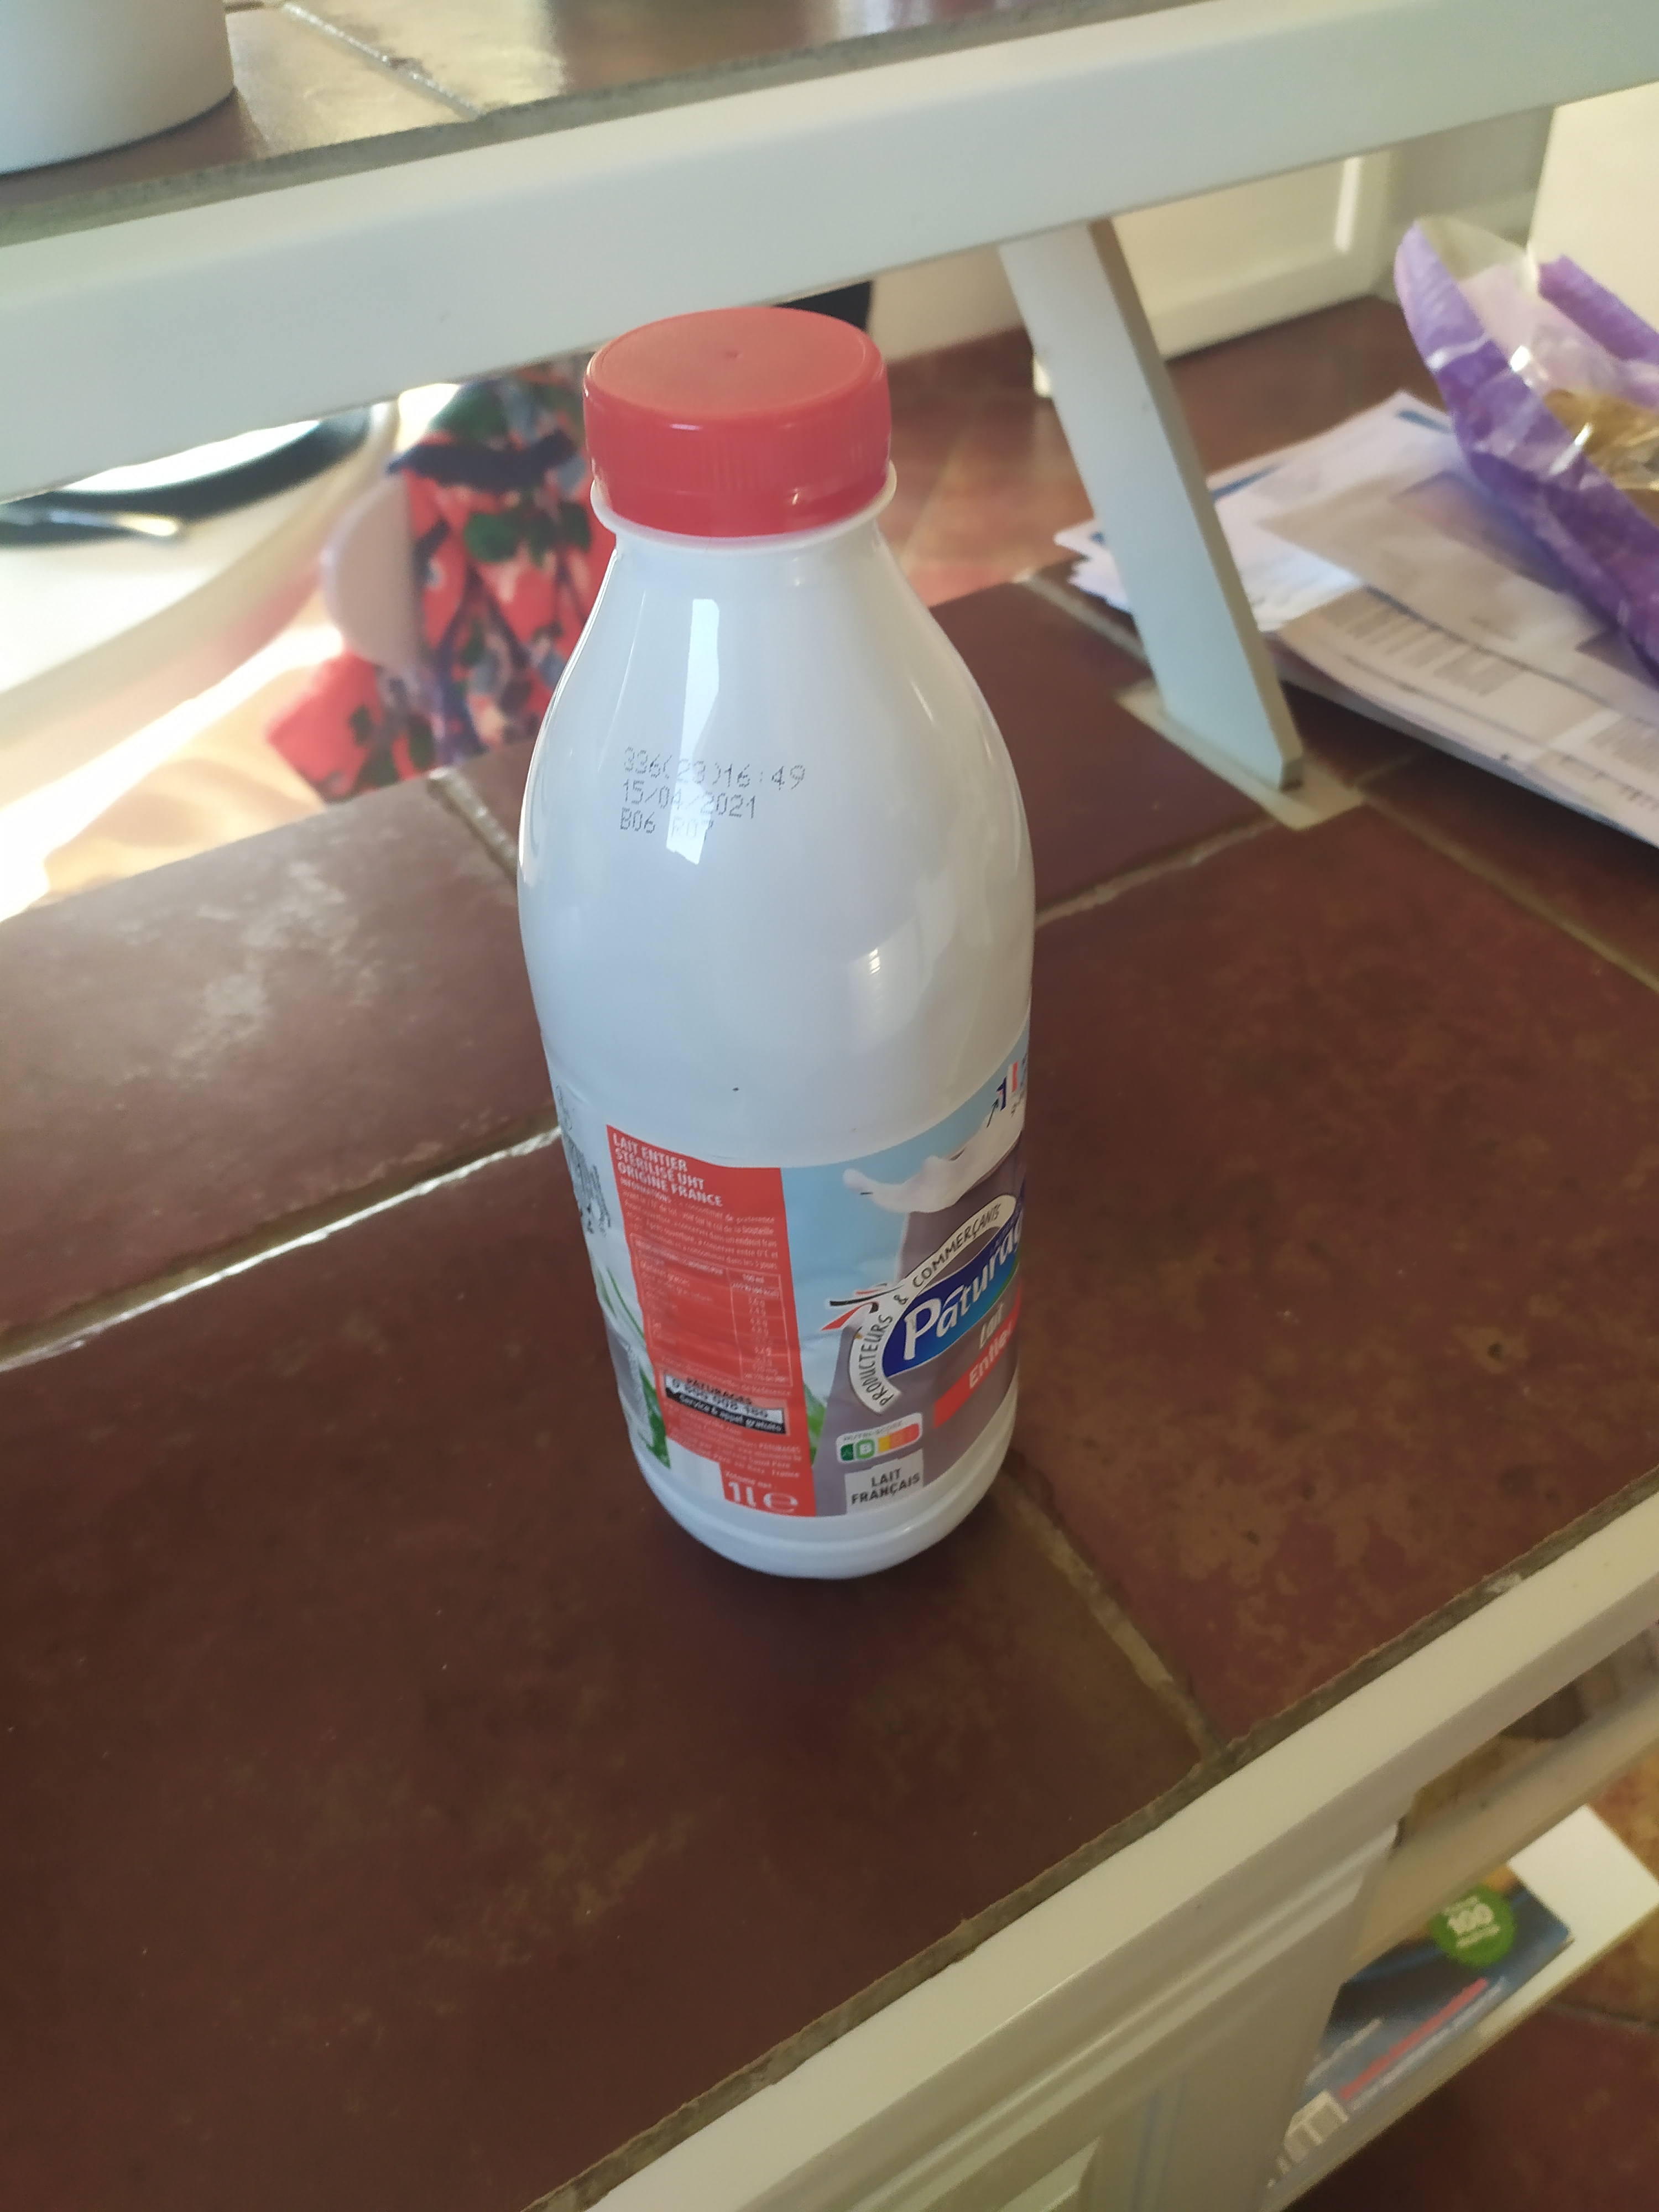bottle: (518, 296, 1047, 1575)
